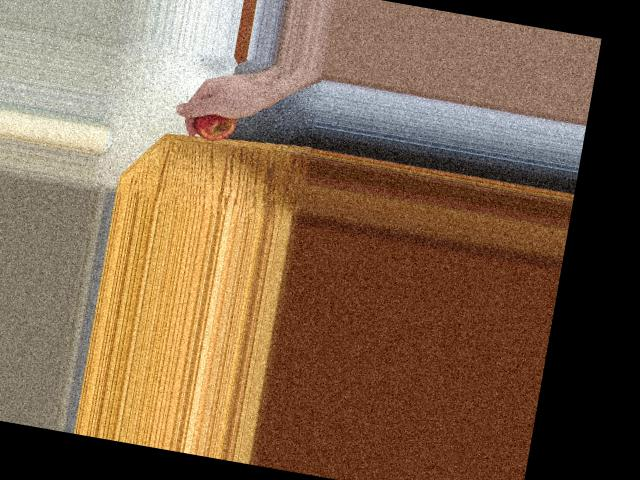apple: (190, 98, 239, 144)
